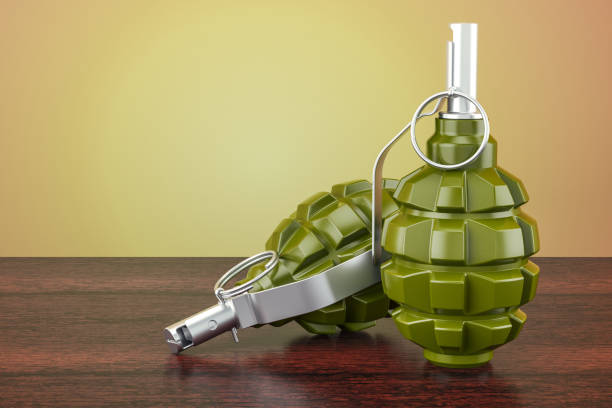e1: (369, 24, 543, 370)
